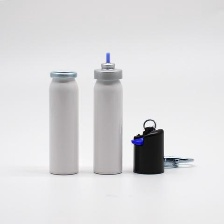aerosol_cans: (91, 50, 125, 176), (45, 67, 83, 179)
